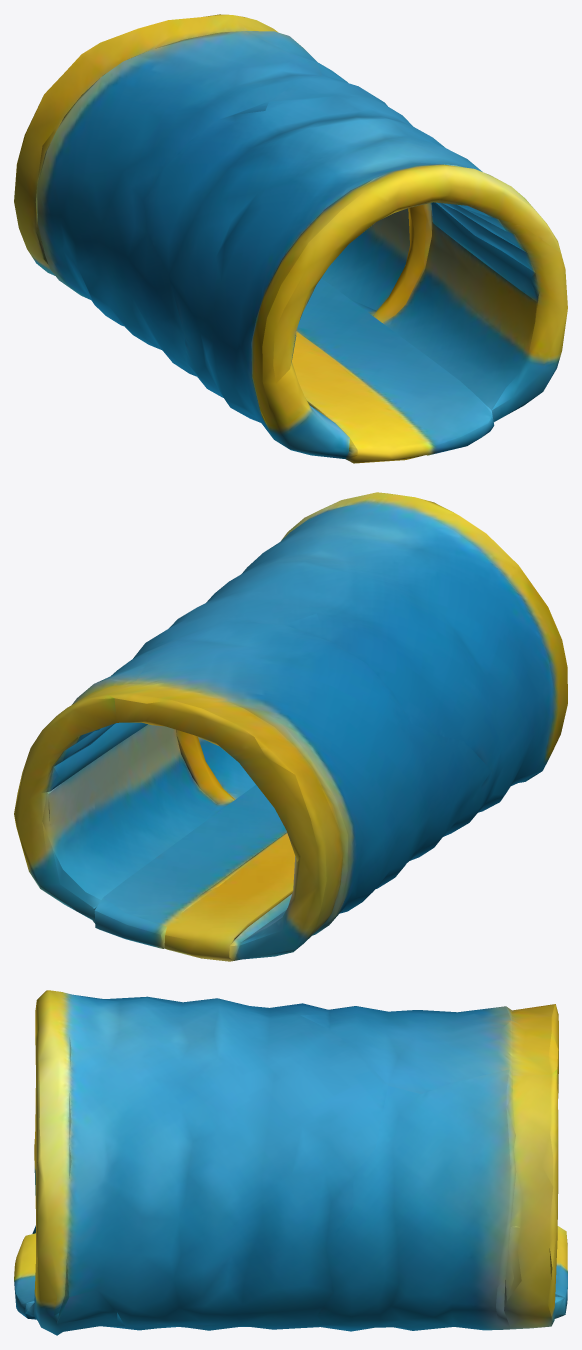
The model's file is agilityTunnel.glb.
The picture shows the model from 3 angles, top to bottom: view 1: azimuth 30°, elevation 25°; view 2: azimuth 150°, elevation 25°; view 3: azimuth 270°, elevation 25°; orthographic projection. The views are drawn at different scales.
Visible parts, largest first — view 1: model; view 2: model; view 3: model.
Part boxes in pixels (x1,y1,x2,y2): model: (14,14,567,463); model: (14,492,567,961); model: (14,990,567,1335).
Size of the model in its own units: 1.28 by 1.1 by 1.89.
Materials: 1 (1 with a texture image).
